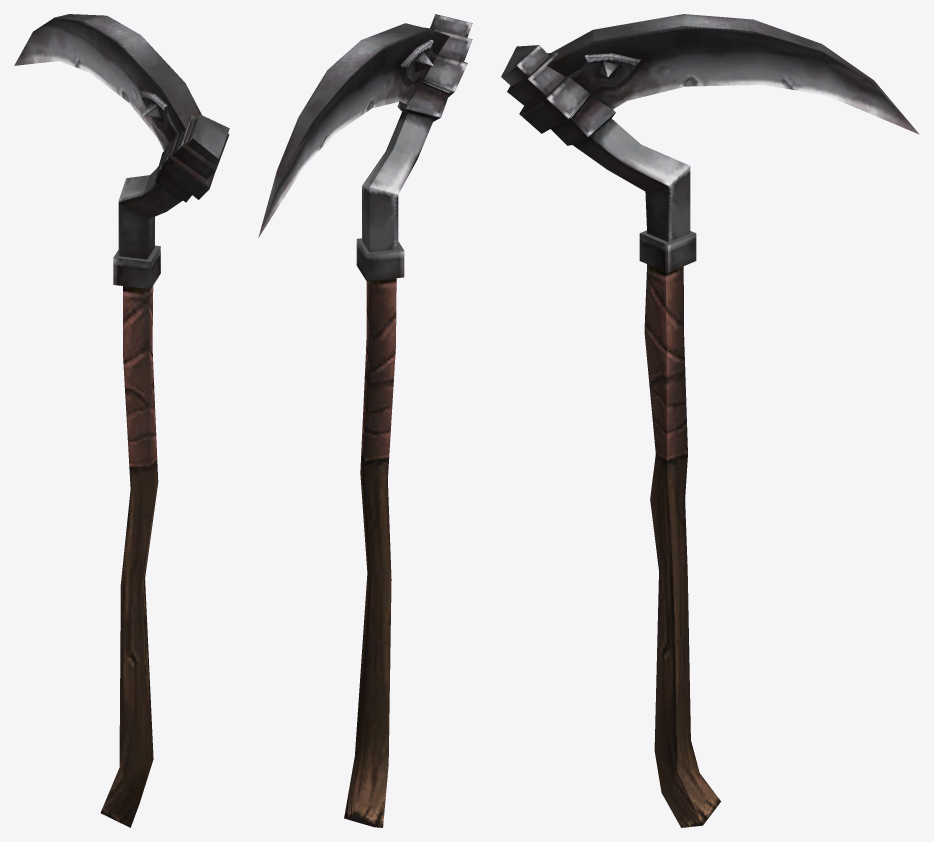
The model's file is greataxe08_cec25e76.glb.
The picture shows the model from 3 angles, left to right: view 1: azimuth 30°, elevation 25°; view 2: azimuth 150°, elevation 25°; view 3: azimuth 270°, elevation 25°; orthographic projection. The views are drawn at different scales.
Bounding box in the file's own units: 0.1716 × 2.28 × 1.07.
1 material, 1 textured.
